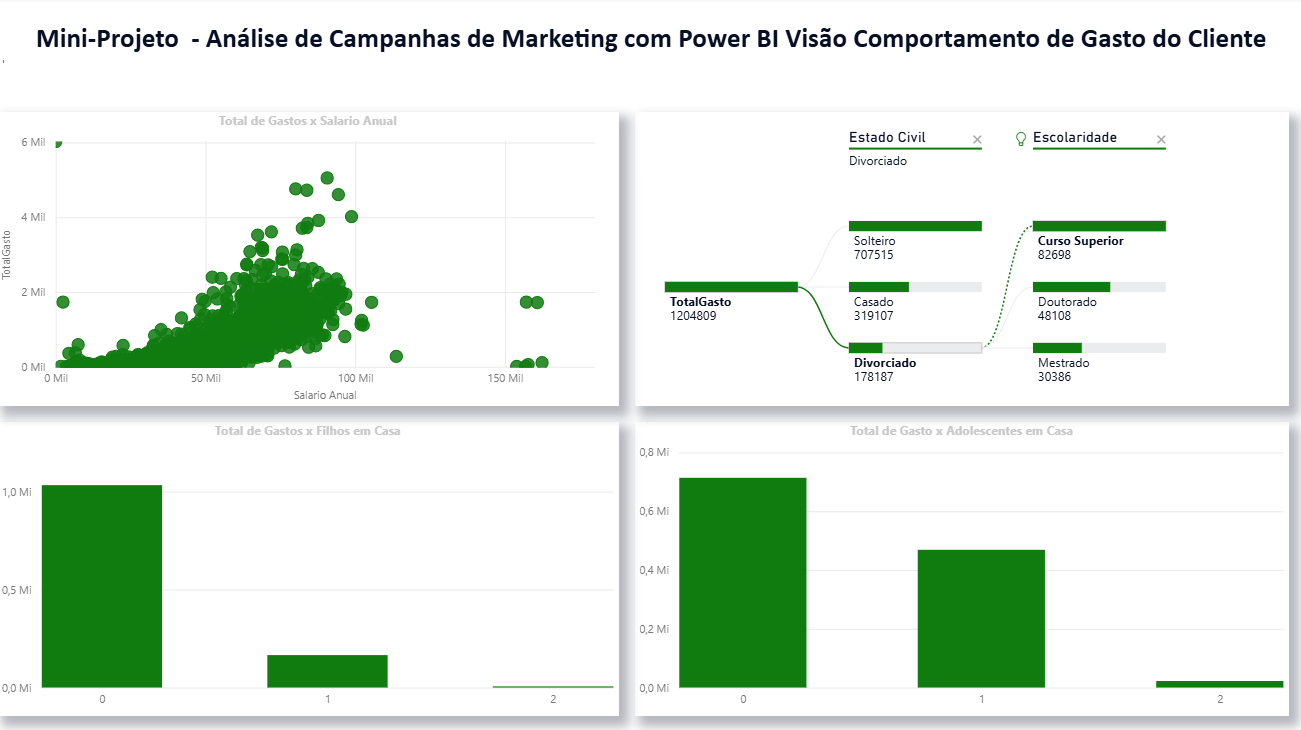

The page's visual inventory and layout, read from the dashboard file:
{"tool":"powerbi","page":{"name":"Visão Comportamento","canvas":[1280,720],"ordinal":1},"visuals":[{"type":"scatterChart","title":"Total de Gastos x Salario Anual","fields":{"X":["DadosMarketing.Salario Anual"],"Y":["DadosMarketing.TotalGasto"]},"box":[0,112,608,288],"z":0},{"type":"clusteredColumnChart","title":"Total de Gastos x Filhos em Casa","fields":{"Y":["DadosMarketing.TotalGasto"],"Category":["DadosMarketing.Filhos em Casa"]},"box":[0,416,608,288],"z":1000},{"type":"clusteredColumnChart","title":"Total de Gasto x Adolescentes em Casa","fields":{"Y":["DadosMarketing.TotalGasto"],"Category":["DadosMarketing.Adolescentes em Casa"]},"box":[624,416,640,288],"z":2000},{"type":"textbox","box":[0,0,1280,96],"z":3000},{"type":"decompositionTreeVisual","fields":{"ExplainBy":["DadosMarketing.Estado Civil","DadosMarketing.Escolaridade"],"Analyze":["DadosMarketing.TotalGasto"]},"box":[624,112,640,288],"z":4000}]}

Visuals, with their boxes in screenshot pixels (x1, y1, x2, y2), scaled from the page's 1280x720 canvas onto the 1301x730 screenshot:
"Total de Gastos x Salario Anual" scatterChart: [0,114,618,406]
"Total de Gastos x Filhos em Casa" clusteredColumnChart: [0,422,618,714]
"Total de Gasto x Adolescentes em Casa" clusteredColumnChart: [634,422,1285,714]
textbox: [0,0,1300,97]
decompositionTreeVisual - DadosMarketing.Estado Civil x DadosMarketing.Escolaridade: [634,114,1285,406]
